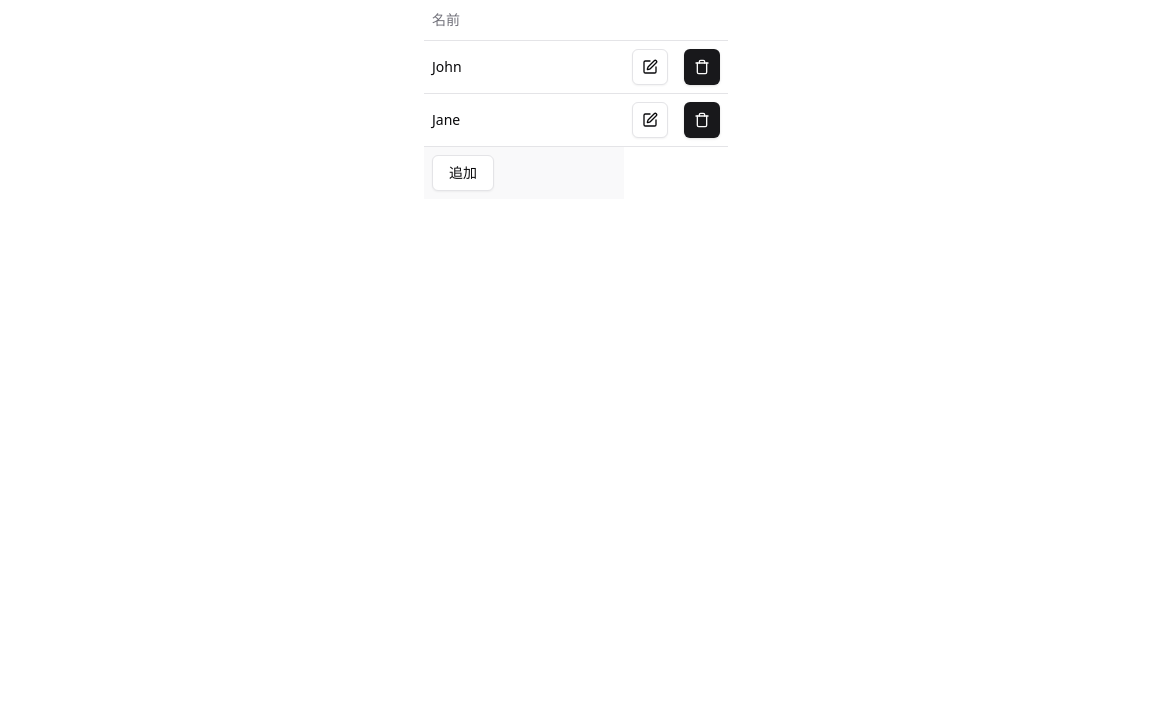
Test: ClientPurchasersTable › キャンセルボタンをクリックするとダイアログが閉じて削除されない
This screenshot has width=1152, height=720.
What coordinates should you click on to do the following:
click the button named "Delete" in the row of "John"
I would click on:
 (702, 66)
Its box is [684,48,720,84].
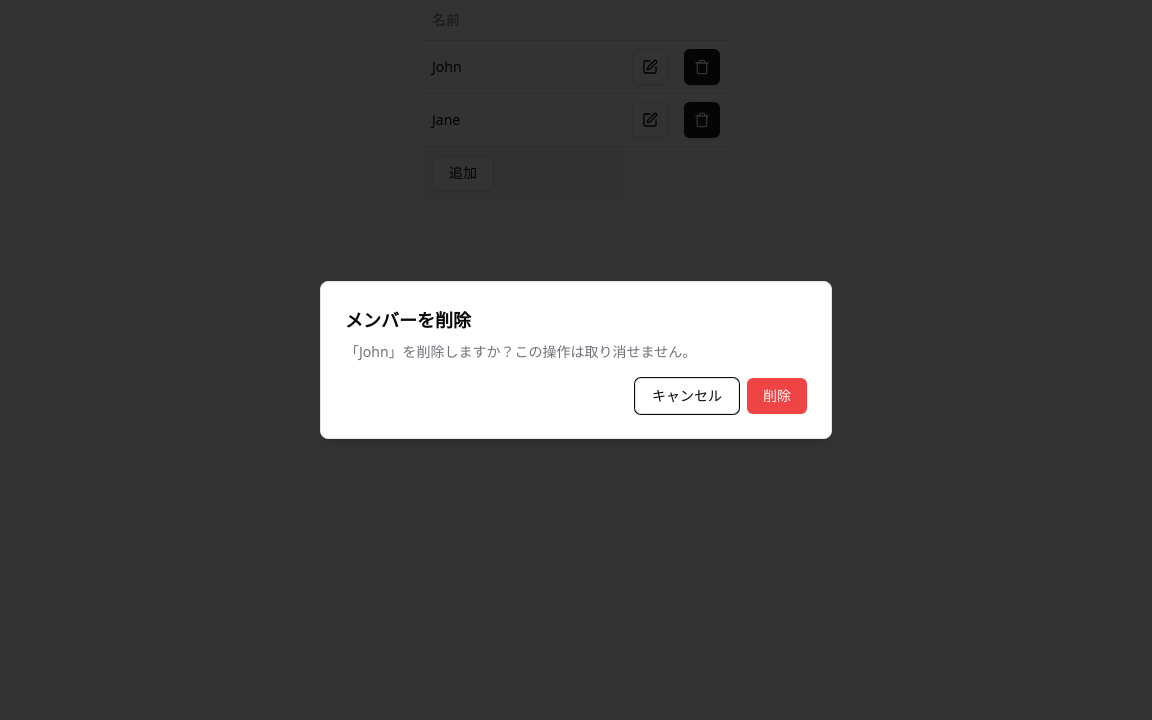
Result: the dialog is shown at [320,281,832,439]
What coordinates should you click on to do the following:
click the button "キャンセル"
I would click on:
 (687, 396)
Its box is [635,378,739,414].
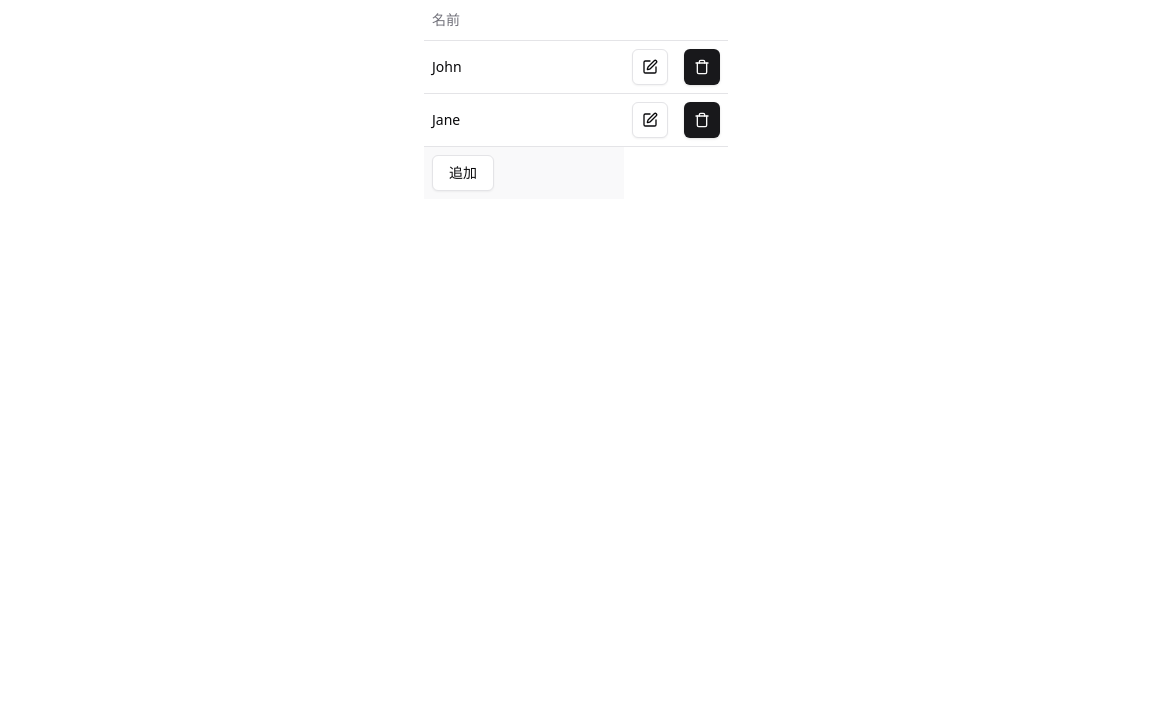
Expected: the text "John" is shown, [424,40,624,93]
Result: the dialog is gone
